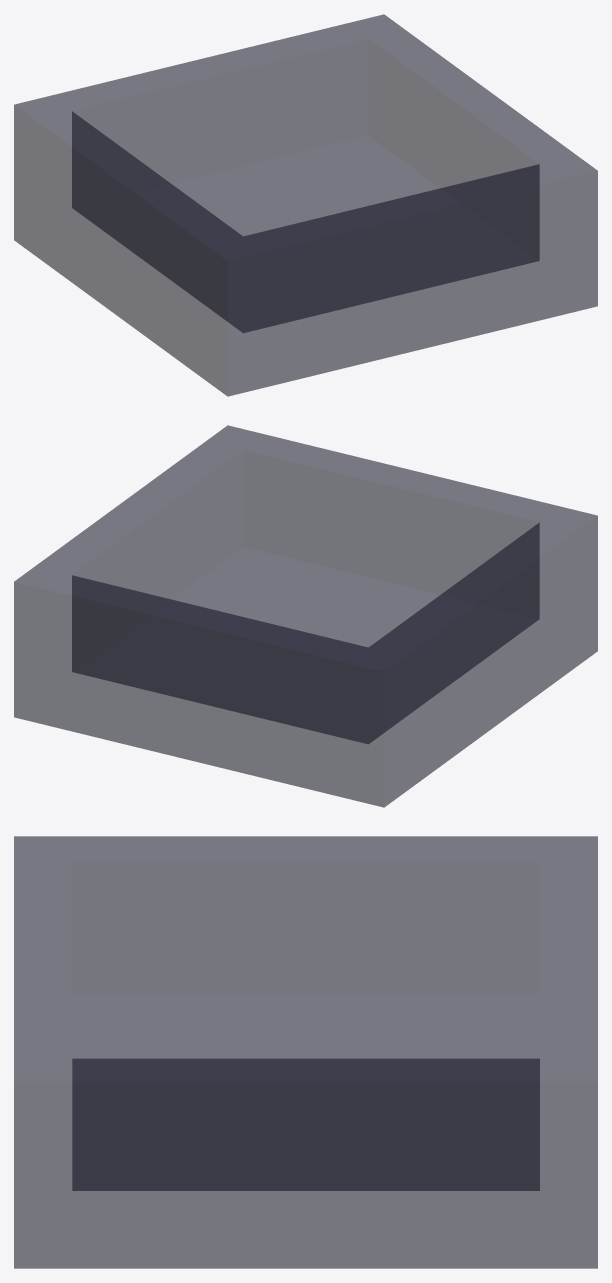
Rendered from GlassRoof_4Edges_Small.glb.
The picture shows the model from 3 angles, top to bottom: view 1: azimuth 30°, elevation 25°; view 2: azimuth 150°, elevation 25°; view 3: azimuth 270°, elevation 25°; orthographic projection. The views are drawn at different scales.
Visible parts, largest first — view 1: roof_flat_4Edges_small_glass; view 2: roof_flat_4Edges_small_glass; view 3: roof_flat_4Edges_small_glass.
Boxes of the visible parts, box(x1,y1,x2,y2) form: roof_flat_4Edges_small_glass: box(14, 14, 597, 396); roof_flat_4Edges_small_glass: box(14, 425, 597, 807); roof_flat_4Edges_small_glass: box(14, 836, 597, 1268).
Size of what is drawn, in the model's own units: 2 by 0.7 by 2.
1 material, 1 textured.
